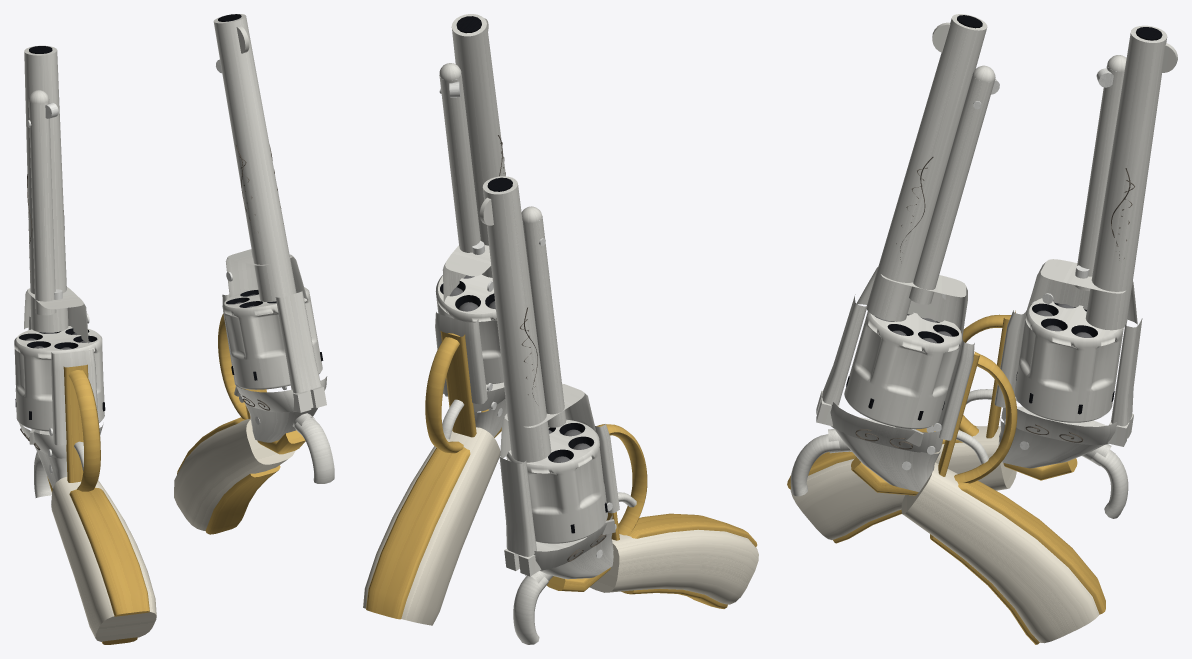
File: gun.engraved-ivory.gltf
3 renders of one model, left to right at view 1: azimuth 30°, elevation 25°; view 2: azimuth 150°, elevation 25°; view 3: azimuth 270°, elevation 25°, orthographic. The views are drawn at different scales.
Visible parts, largest first — view 1: revolver (×2); view 2: revolver (×2); view 3: revolver (×2).
Part boxes in pixels (left/top/right/bottom): revolver (×2): left=14, top=14, right=334, bottom=644; revolver (×2): left=363, top=14, right=758, bottom=644; revolver (×2): left=787, top=14, right=1177, bottom=644.
Size of the model in its own units: 0.1616 by 0.3355 by 0.1944.
1 material, 1 textured.
